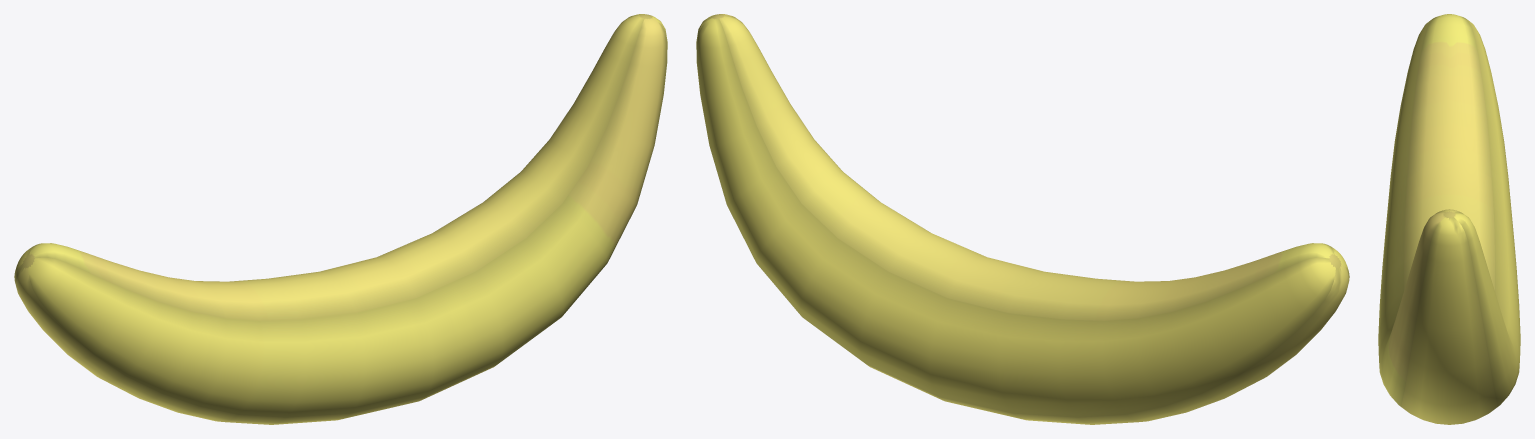
File: Banana-Bullet.fbx
The picture shows the model from 3 angles, left to right: view 1: azimuth 30°, elevation 25°; view 2: azimuth 150°, elevation 25°; view 3: azimuth 270°, elevation 25°; orthographic projection. The views are drawn at different scales.
Visible parts, largest first — view 1: Banana Bullet; view 2: Banana Bullet; view 3: Banana Bullet.
Part boxes in pixels (bbox=[...]): Banana Bullet: bbox=[14, 14, 667, 424]; Banana Bullet: bbox=[696, 14, 1349, 424]; Banana Bullet: bbox=[1378, 14, 1520, 424].
Bounding box in the file's own units: 161 × 76.74 × 32.43.
Materials: 1 (1 with a texture image).
